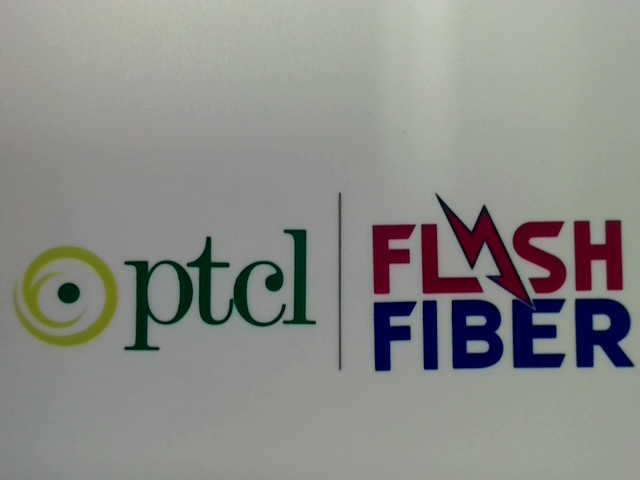BF_PTCL: (1, 217, 324, 353)
